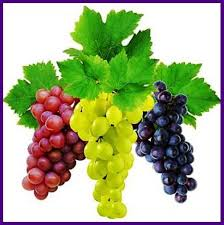Black grapes: (133, 79, 204, 205)
Green grapes: (76, 77, 142, 219)
Red Grapes: (17, 76, 89, 200)
